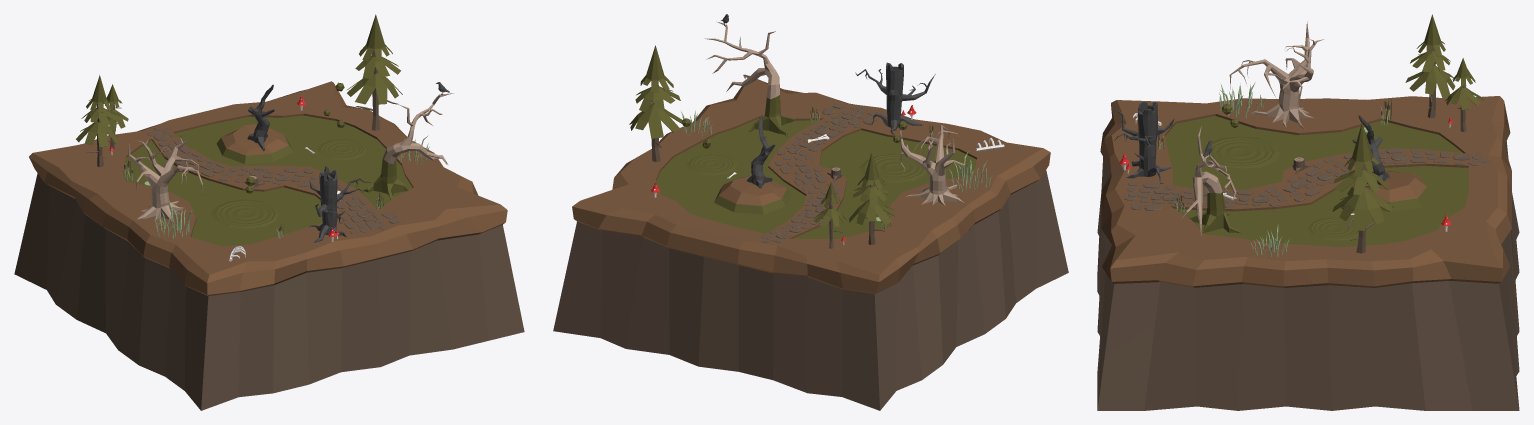
The model's file is Island_14.glb.
3 renders of one model, left to right at view 1: azimuth 30°, elevation 25°; view 2: azimuth 150°, elevation 25°; view 3: azimuth 270°, elevation 25°, orthographic. The views are drawn at different scales.
Parts seen in each view (by area): view 1: Isl14_Base, Isl14_Spruce_3, Isl14_Sinister_tree, Isl14_Tree_2, Isl14_Circles_1, Isl14_Spruce_1, Isl14_Tree_3, Isl14_Circles_2, Isl14_Tree_1, Isl14_Spruce_2, Isl14_Grass_1; view 2: Isl14_Base, Isl14_Spruce_3, Isl14_Sinister_tree, Isl14_Tree_2, Isl14_Spruce_1, Isl14_Tree_3, Isl14_Circles_1, Isl14_Circles_2, Isl14_Spruce_2, Isl14_Tree_1, Isl14_Grass_1; view 3: Isl14_Base, Isl14_Spruce_3, Isl14_Sinister_tree, Isl14_Tree_2, Isl14_Spruce_1, Isl14_Circles_1, Isl14_Tree_3, Isl14_Circles_2, Isl14_Spruce_2, Isl14_Tree_1, Isl14_Grass_1, Isl14_Grass_2.
Boxes of the visible parts, box(x1,y1,x2,y2) form: Isl14_Base: box(14, 81, 524, 410); Isl14_Spruce_3: box(347, 14, 402, 130); Isl14_Sinister_tree: box(128, 133, 202, 224); Isl14_Tree_2: box(363, 93, 453, 200); Isl14_Circles_1: box(210, 177, 278, 228); Isl14_Spruce_1: box(76, 75, 121, 167); Isl14_Tree_3: box(308, 166, 370, 242); Isl14_Circles_2: box(317, 82, 366, 160); Isl14_Tree_1: box(247, 84, 274, 151); Isl14_Spruce_2: box(103, 84, 128, 149); Isl14_Grass_1: box(154, 199, 192, 238); Isl14_Base: box(553, 78, 1068, 410); Isl14_Spruce_3: box(629, 45, 682, 161); Isl14_Sinister_tree: box(899, 125, 964, 205); Isl14_Tree_2: box(704, 21, 795, 136); Isl14_Spruce_1: box(849, 153, 894, 244); Isl14_Tree_3: box(855, 62, 935, 135); Isl14_Circles_1: box(859, 121, 926, 183); Isl14_Circles_2: box(682, 118, 738, 175); Isl14_Spruce_2: box(813, 182, 846, 248); Isl14_Tree_1: box(746, 114, 775, 188); Isl14_Grass_1: box(948, 151, 991, 192); Isl14_Base: box(1097, 96, 1519, 410); Isl14_Spruce_3: box(1332, 122, 1393, 253); Isl14_Sinister_tree: box(1229, 21, 1324, 128); Isl14_Tree_2: box(1181, 126, 1240, 235); Isl14_Spruce_1: box(1405, 14, 1455, 118); Isl14_Circles_1: box(1202, 103, 1280, 168); Isl14_Tree_3: box(1113, 102, 1174, 183); Isl14_Circles_2: box(1308, 183, 1367, 240); Isl14_Spruce_2: box(1445, 58, 1484, 131); Isl14_Tree_1: box(1352, 115, 1389, 185); Isl14_Grass_1: box(1219, 82, 1265, 117); Isl14_Grass_2: box(1250, 224, 1289, 257).
Size of the model in its own units: 22.03 by 15.62 by 22.03.
Materials: 1 (1 with a texture image).
